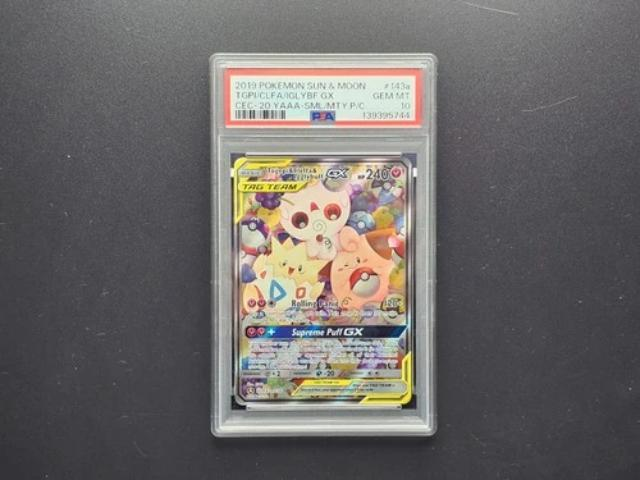Card: (224, 155, 417, 408)
Name: (259, 163, 352, 179)
